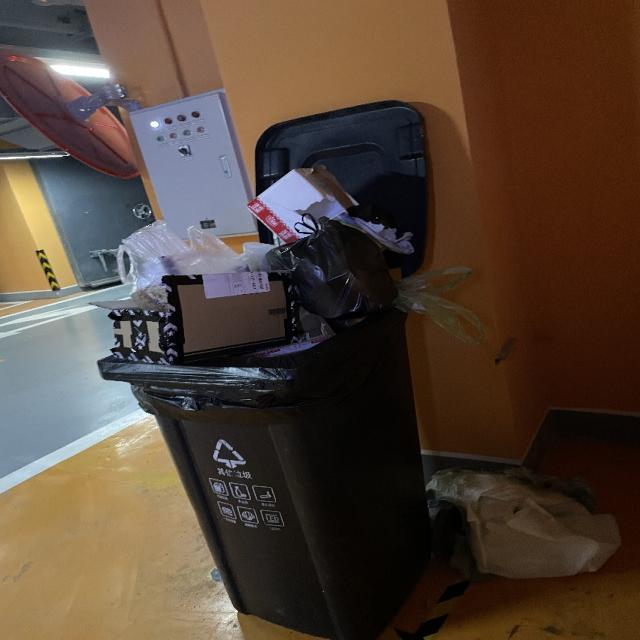garbage: (427, 465, 621, 577)
overflow: (86, 168, 484, 640)
